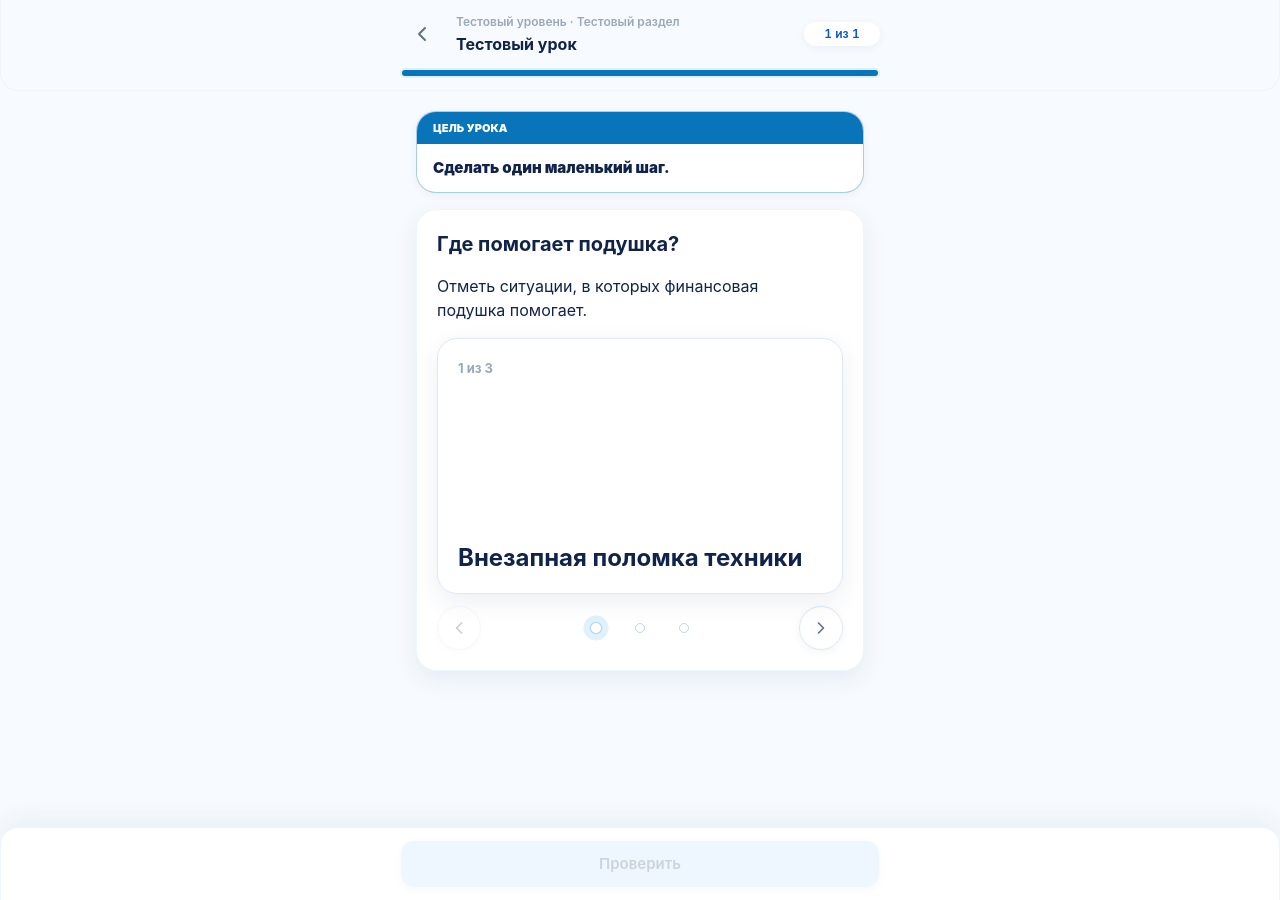
Test: LessonSession › shows correct feedback for an objective multi-select answer
Click the checkbox labelled "Внезапная поломка техники". click: (630, 558)
box: [437,338,843,594]
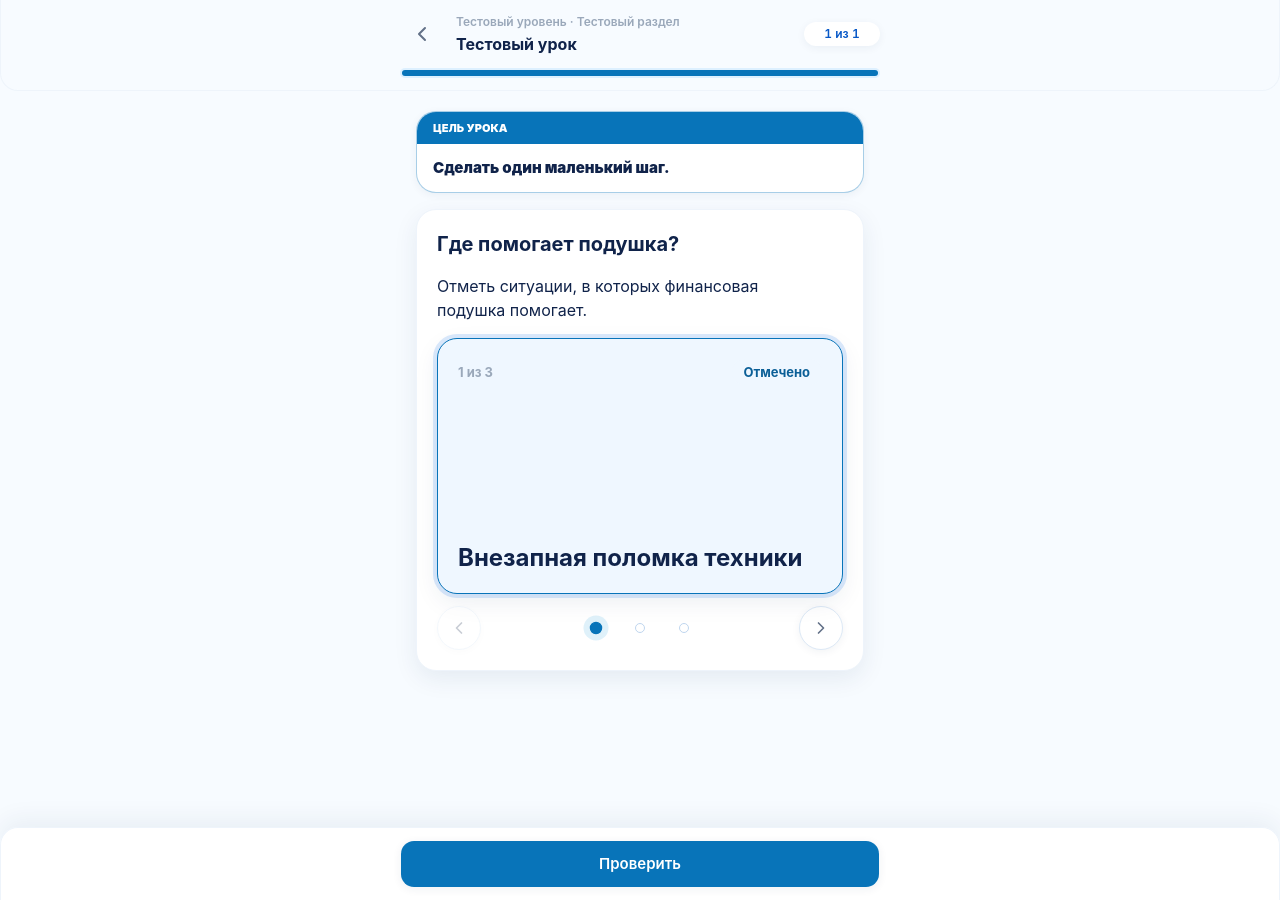
Click the button named "Следующая карточка". click: (821, 628)
box: [799,606,843,650]
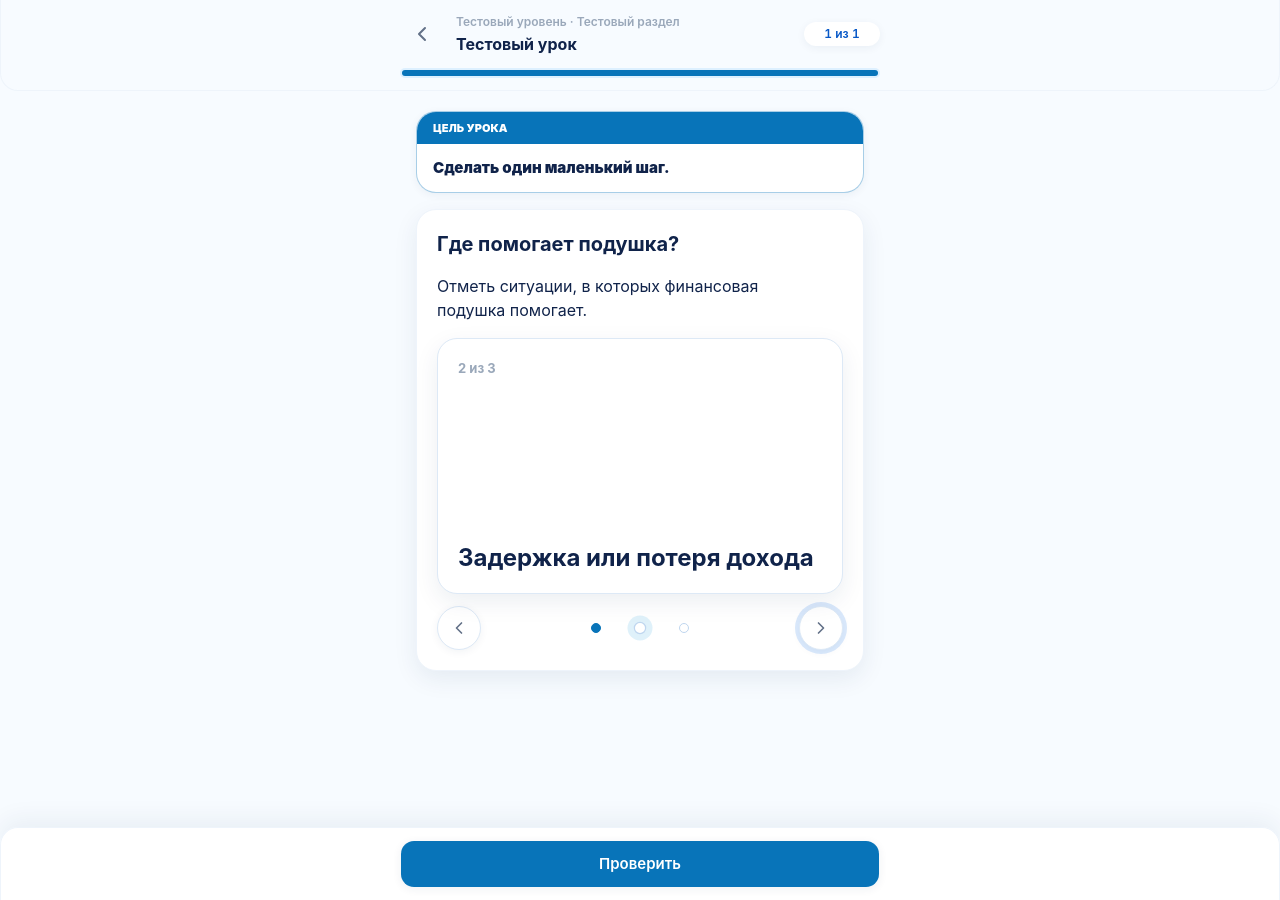
Click the checkbox labelled "Задержка или потеря дохода". click: (636, 558)
box: [437,338,843,594]
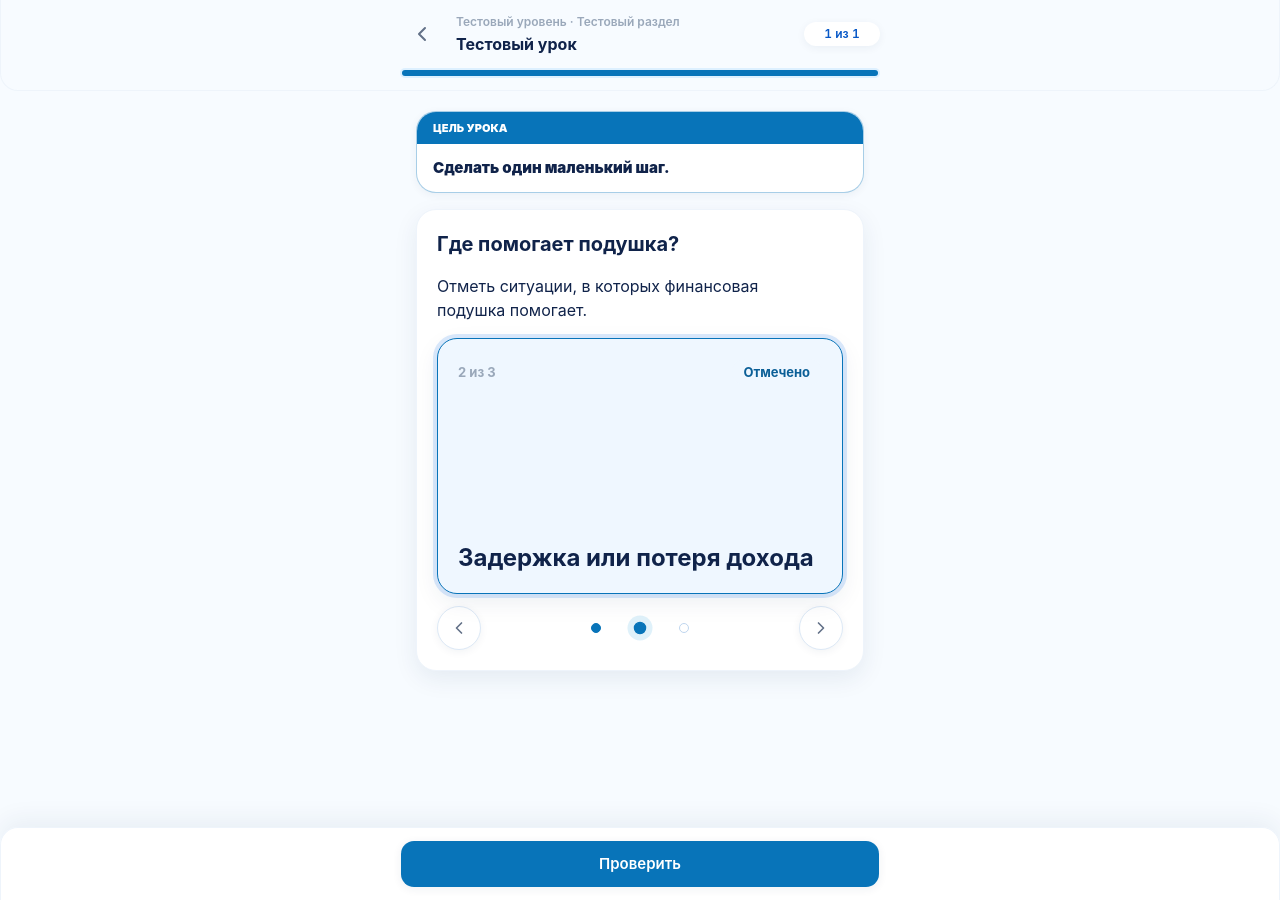
Click the button "Проверить". click: (640, 864)
box: [400,840,880,888]
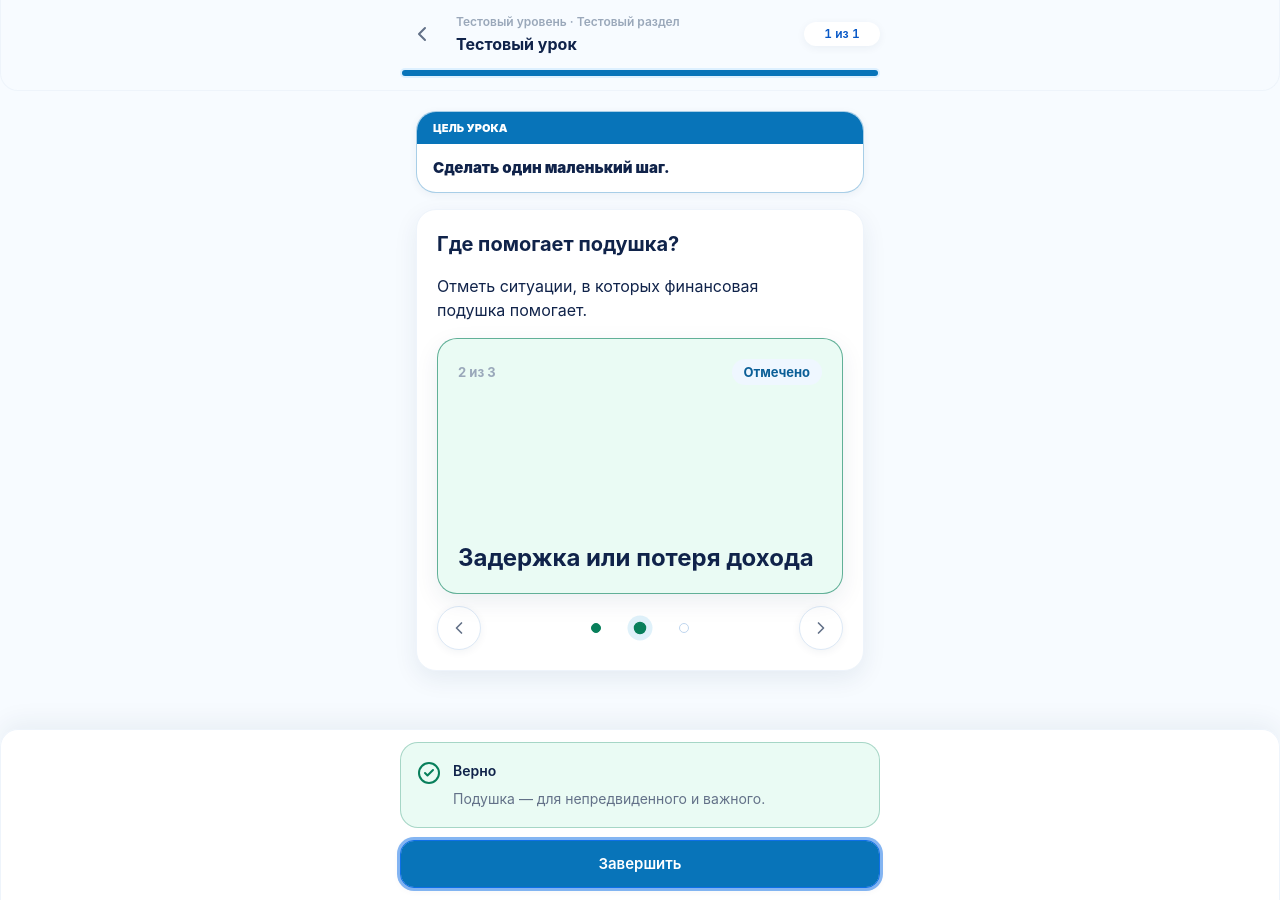
Expected: the message shows "Верно", [453,762,496,779]
Expected: the message shows "Подушка — для непредвиденного и важного.", [453,790,765,807]
